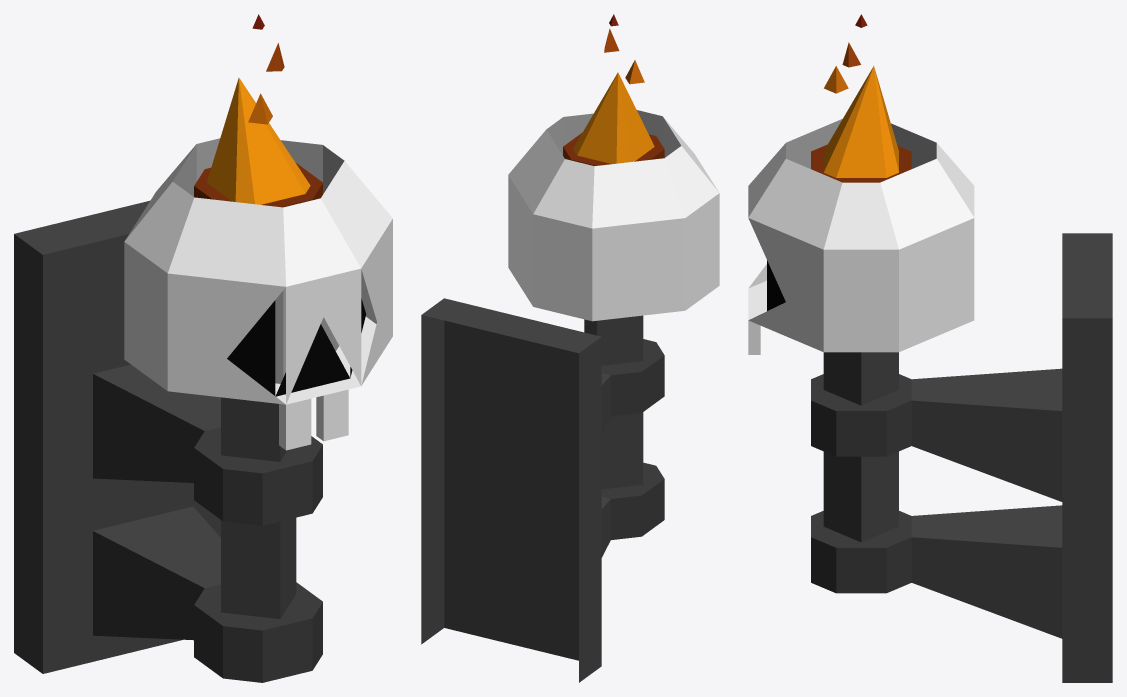
The model's file is skulltorcha1.obj.
The picture shows the model from 3 angles, left to right: view 1: azimuth 30°, elevation 25°; view 2: azimuth 150°, elevation 25°; view 3: azimuth 270°, elevation 25°; orthographic projection. The views are drawn at different scales.
Visible parts, largest first — view 1: skulltorcha1_back; view 2: skulltorcha1_back; view 3: skulltorcha1_back.
Part boxes in pixels (left/top/right/bottom): skulltorcha1_back: left=14, top=14, right=392, bottom=682; skulltorcha1_back: left=421, top=14, right=719, bottom=682; skulltorcha1_back: left=748, top=14, right=1112, bottom=682.
Bounding box in the file's own units: 0.36 × 1.1 × 0.58.
